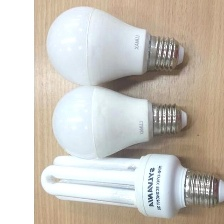light_bulb: (40, 150, 224, 221), (40, 2, 187, 90), (46, 84, 189, 161)
